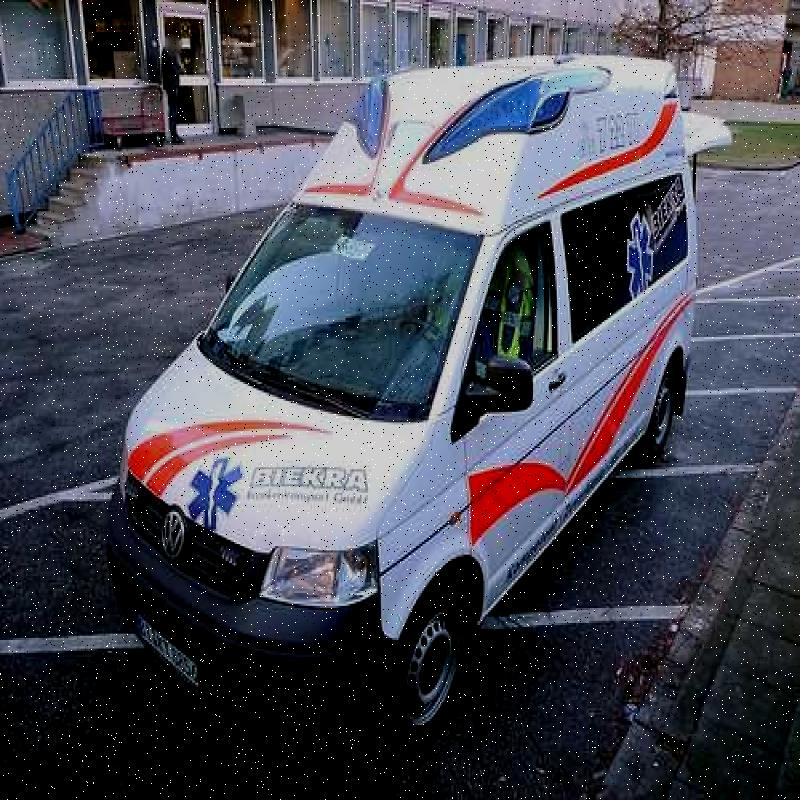AmbulanceSiren: (338, 71, 564, 150)
